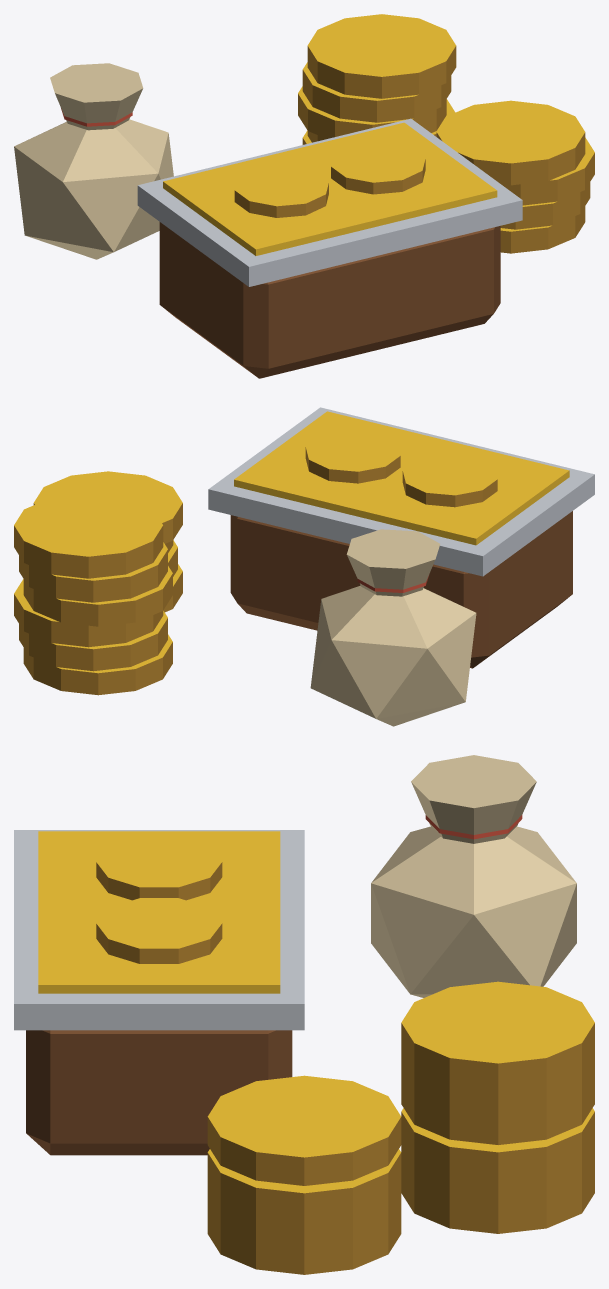
The model's file is prop_coins_l.fbx.
3 renders of one model, top to bottom at view 1: azimuth 30°, elevation 25°; view 2: azimuth 150°, elevation 25°; view 3: azimuth 270°, elevation 25°, orthographic. The views are drawn at different scales.
Parts seen in each view (by area): view 1: prop_coins_l; view 2: prop_coins_l; view 3: prop_coins_l.
Boxes of the visible parts, box(x1,y1,x2,y2) form: prop_coins_l: box(14, 14, 594, 378); prop_coins_l: box(14, 407, 594, 726); prop_coins_l: box(14, 755, 594, 1274).
Bounding box in the file's own units: 0.3693 × 0.126 × 0.288.
